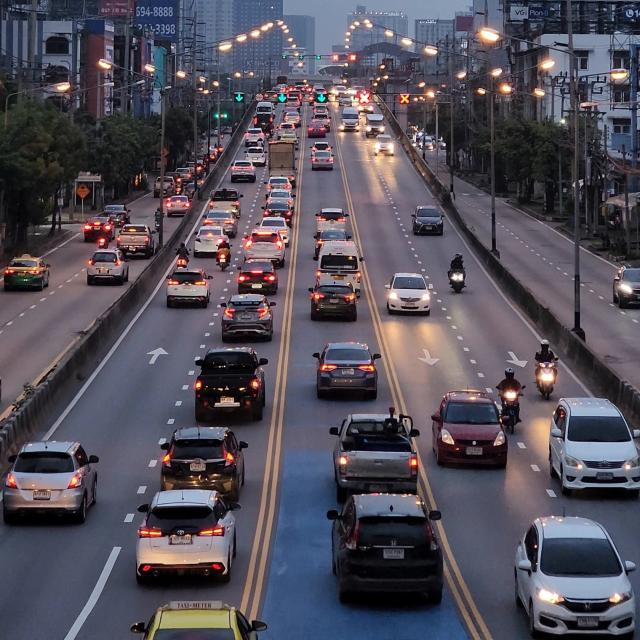Car: (512, 514, 638, 640), (331, 495, 445, 606), (139, 490, 241, 586), (548, 392, 640, 496), (3, 442, 106, 527), (328, 413, 426, 495), (429, 390, 512, 474), (155, 426, 252, 494), (192, 345, 272, 423), (313, 341, 382, 401), (220, 293, 284, 342), (381, 272, 433, 316), (164, 266, 214, 310), (4, 256, 53, 292), (85, 248, 131, 284)
